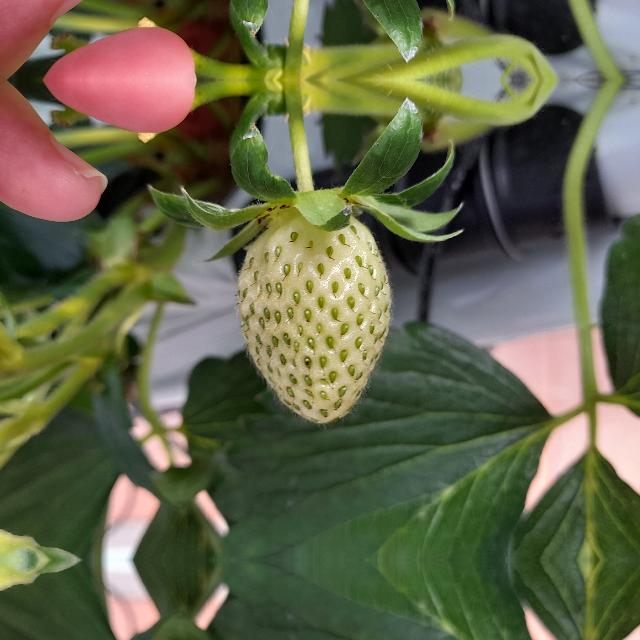Health_25: (236, 204, 392, 422)
